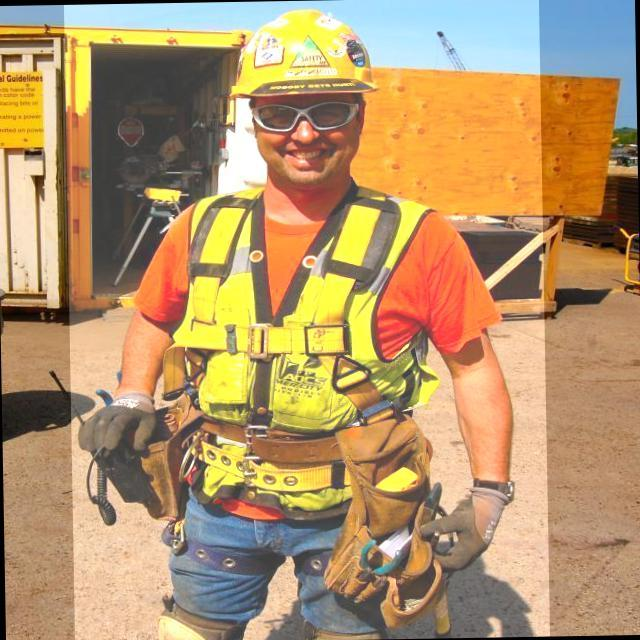Gloves: (411, 483, 519, 575), (75, 389, 167, 462)
Helmet: (220, 4, 391, 109)
Human: (64, 0, 551, 640)
Safety Vest: (163, 164, 460, 527)
